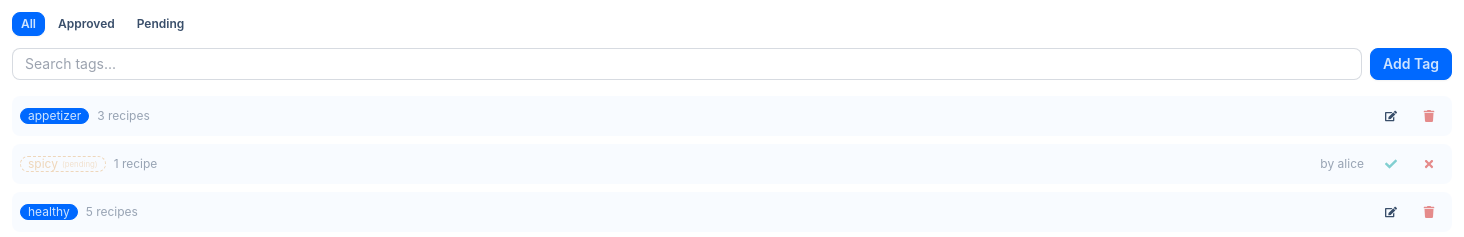
Test: CommunityTagsList › should filter by status when clicking filter buttons
Expected: the text "appetizer" is shown, [20,108,89,124]
# Click "Pending" filter
Click the button "Pending".
click(160, 24)  # box [128,12,193,36]
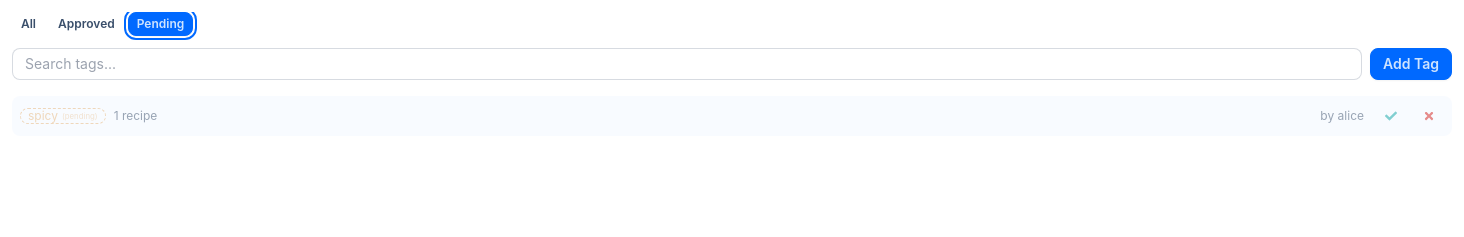
Expected: the text "spicy" is shown, [28,108,58,123]
# Click "Approved" filter
Click the button "Approved".
click(86, 24)  # box [49,12,124,36]
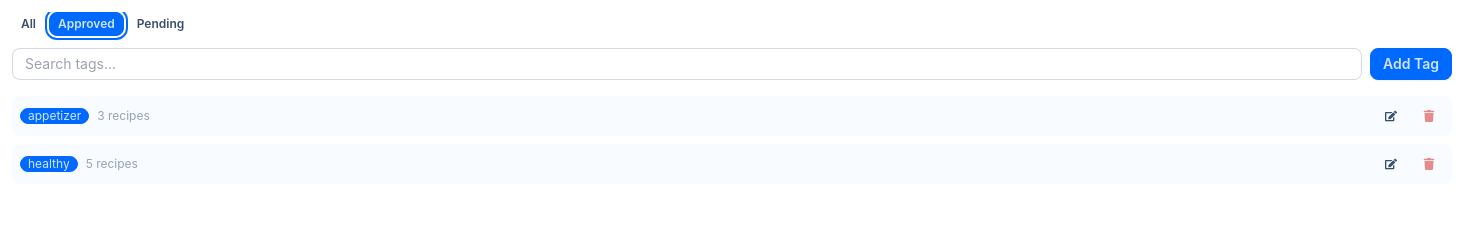
Expected: the text "appetizer" is shown, [20,108,89,124]
